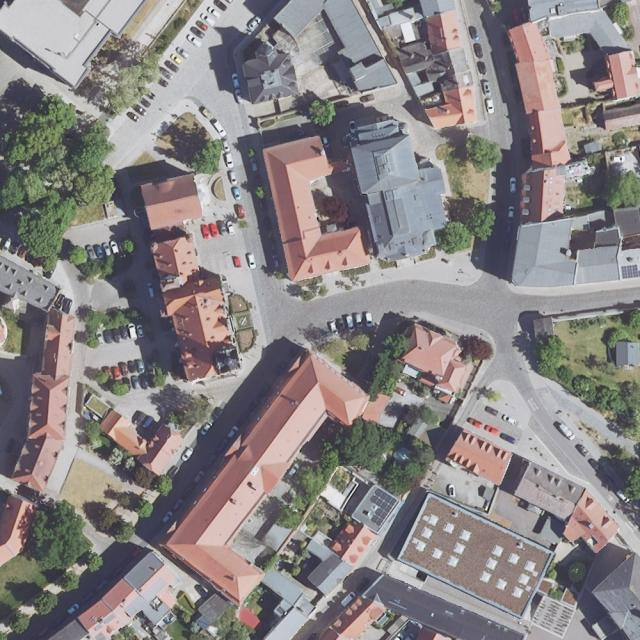PV: (369, 487, 399, 528), (621, 264, 640, 278)
